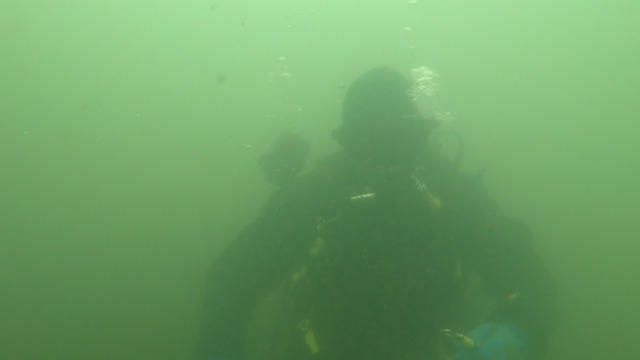Diver: (163, 33, 580, 351)
Head: (317, 45, 459, 222)
